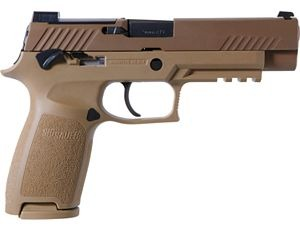gun: (3, 10, 300, 217)
